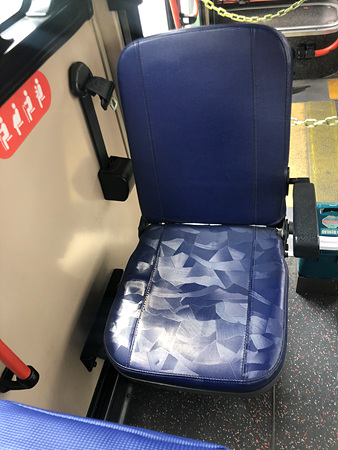seat: (111, 34, 293, 380)
